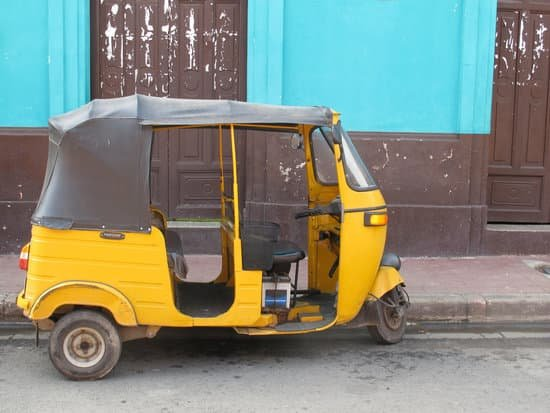threewheel: (14, 94, 409, 382)
